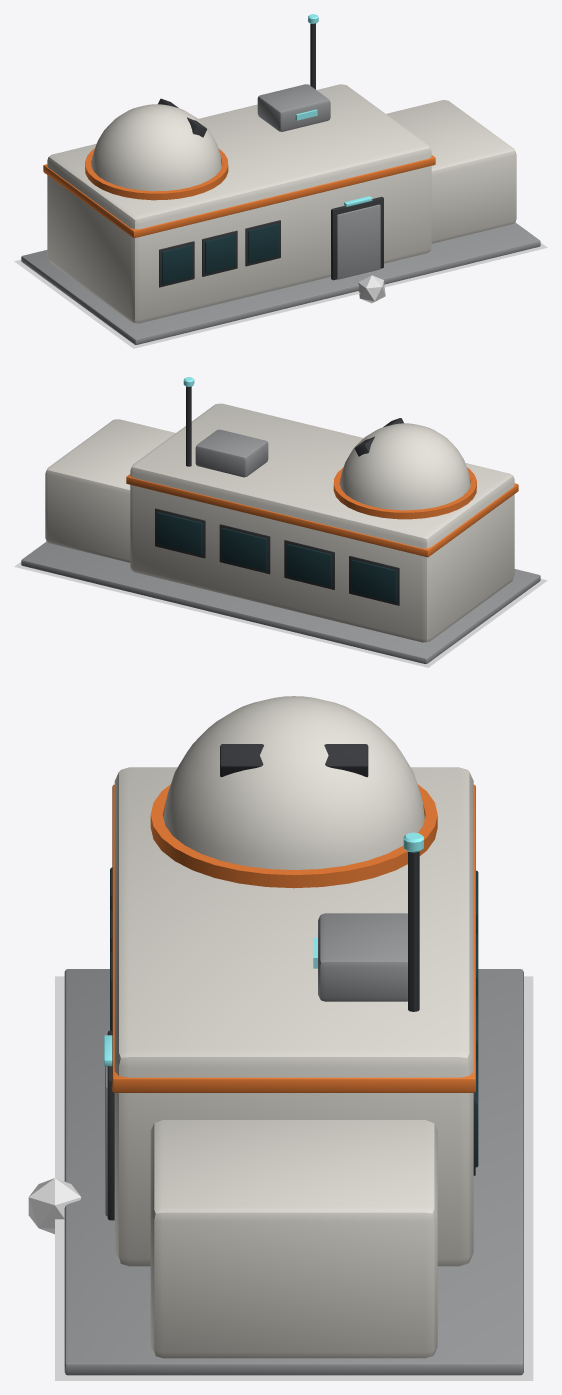
File: research_lab_2x1.gltf
3 renders of one model, top to bottom at view 1: azimuth 30°, elevation 25°; view 2: azimuth 150°, elevation 25°; view 3: azimuth 270°, elevation 25°, orthographic. The views are drawn at different scales.
Parts seen in each view (by area): view 1: ResearchLab, %P%Footprint, %P%AnchorIn; view 2: ResearchLab, %P%Footprint; view 3: ResearchLab, %P%Footprint, %P%AnchorIn.
Part boxes in pixels (box(x1,y1,x2,y2)): ResearchLab: box(21, 14, 540, 344); %P%Footprint: box(14, 243, 547, 348); %P%AnchorIn: box(358, 275, 385, 303); ResearchLab: box(21, 377, 540, 664); %P%Footprint: box(14, 562, 547, 667); ResearchLab: box(64, 696, 523, 1375); %P%Footprint: box(55, 976, 533, 1380); %P%AnchorIn: box(28, 1178, 81, 1234).
Bounding box in the file's own units: 4 × 2.05 × 2.11.
